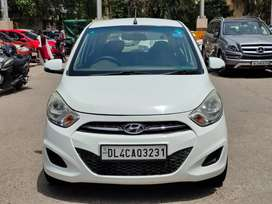DL4CAQ3231: (101, 145, 166, 160)
